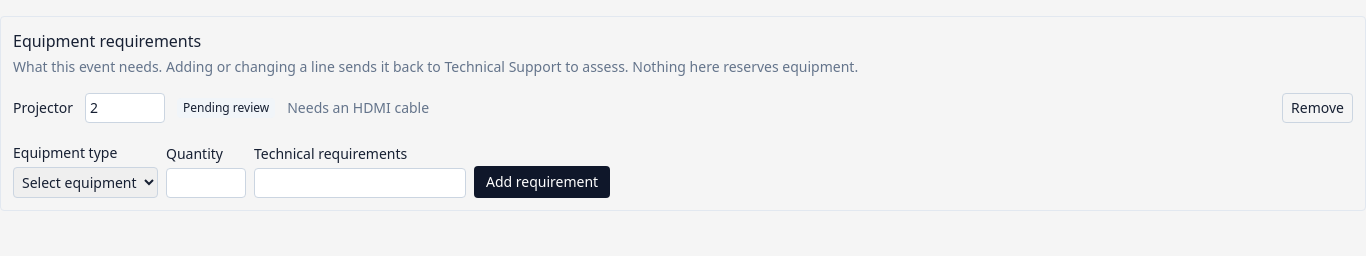
Test case: AC7: removing a requirement says the history is kept
Expected: the number field named "Quantity for Projector" is shown, [85,93,165,123]
Click the button with aria-label "Remove Projector". click: (1318, 108)
box: [1282,93,1353,123]
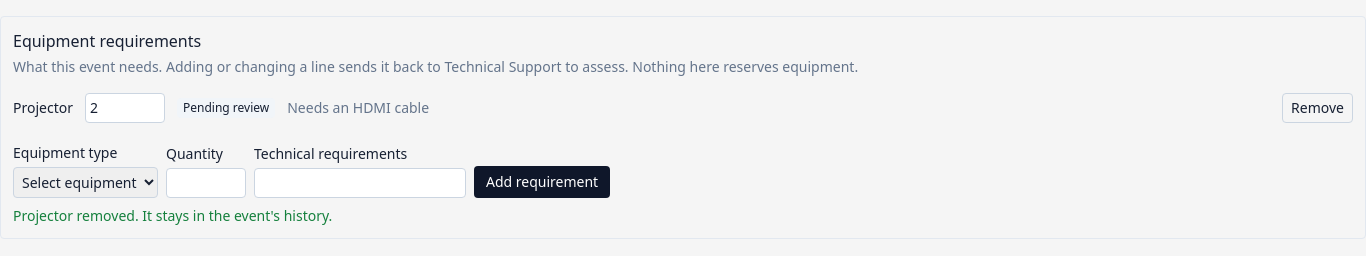
Expected: the message shows "stays in the event's history", [13,206,332,225]
